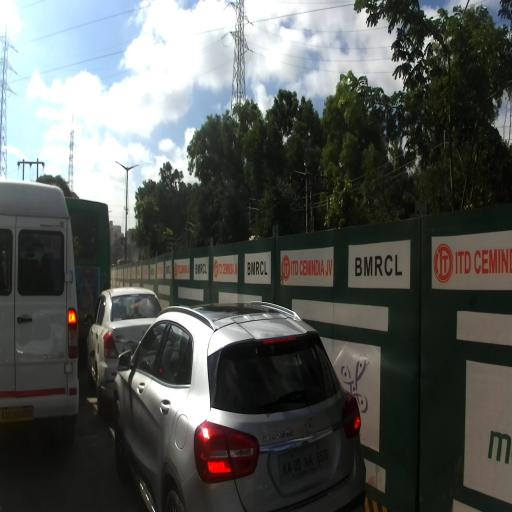street_light_0: (115, 161, 128, 173), (126, 164, 140, 174), (109, 210, 113, 213)
